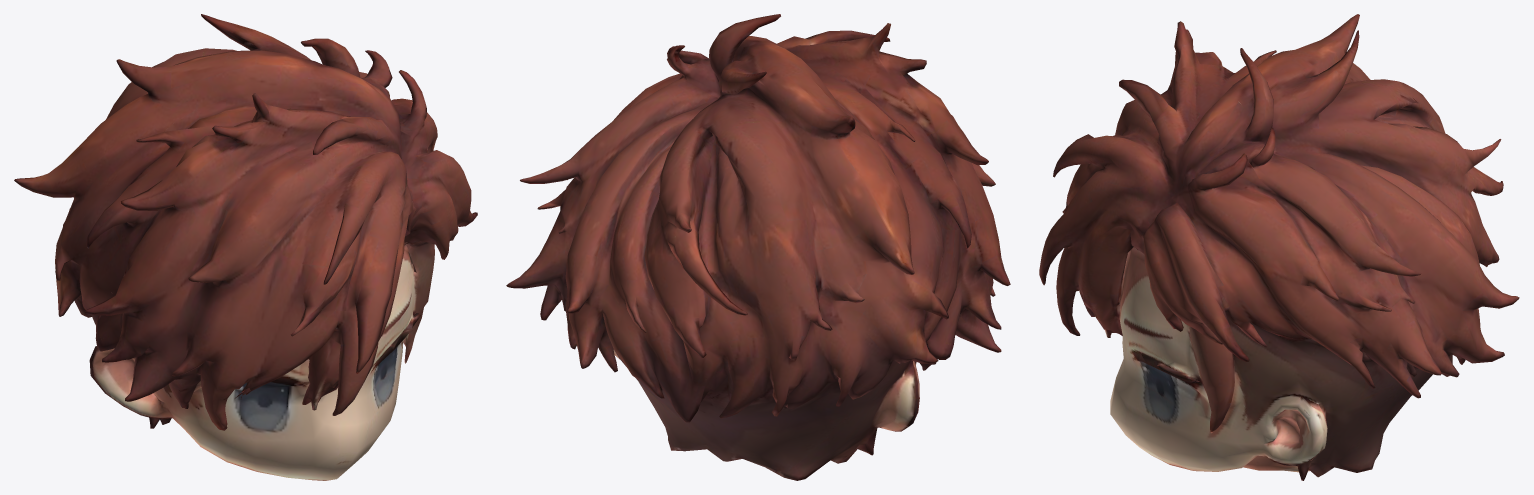
The picture shows the model from 3 angles, left to right: view 1: azimuth 30°, elevation 25°; view 2: azimuth 150°, elevation 25°; view 3: azimuth 270°, elevation 25°; orthographic projection. The views are drawn at different scales.
Parts seen in each view (by area): view 1: tripo_node_34004275-7a9d-4ee7-bd5a-7fa9b5cef8c3; view 2: tripo_node_34004275-7a9d-4ee7-bd5a-7fa9b5cef8c3; view 3: tripo_node_34004275-7a9d-4ee7-bd5a-7fa9b5cef8c3.
Boxes of the visible parts, x1,y1,x2,y2 form: tripo_node_34004275-7a9d-4ee7-bd5a-7fa9b5cef8c3: [14, 14, 477, 480]; tripo_node_34004275-7a9d-4ee7-bd5a-7fa9b5cef8c3: [506, 14, 1010, 480]; tripo_node_34004275-7a9d-4ee7-bd5a-7fa9b5cef8c3: [1039, 14, 1519, 480].
Size of the model in its own units: 0.4295 by 0.4144 by 0.4365.
1 material, 1 textured.
